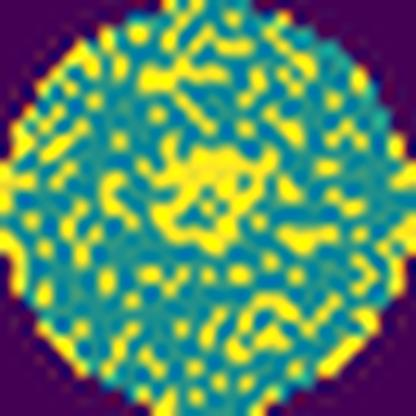Center: (136, 136, 284, 260)
